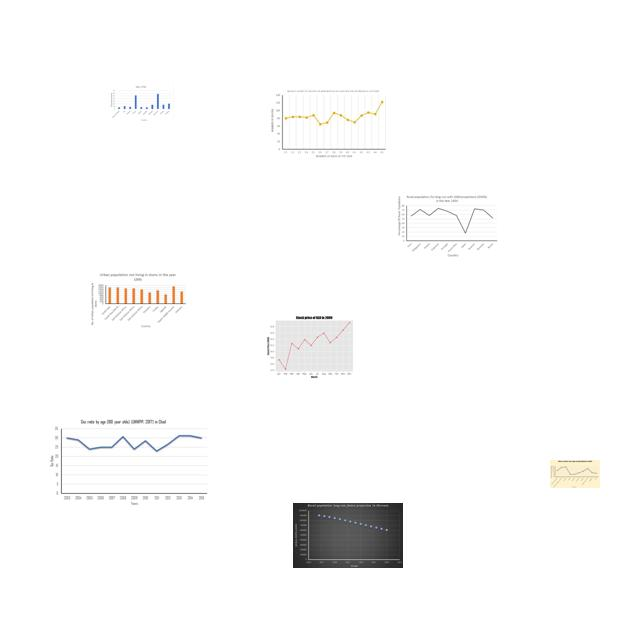Graph: (47, 418, 209, 508), (268, 87, 388, 161), (263, 308, 363, 383), (293, 503, 403, 568), (395, 193, 499, 258), (90, 272, 187, 328), (108, 84, 174, 123), (550, 460, 600, 488)
